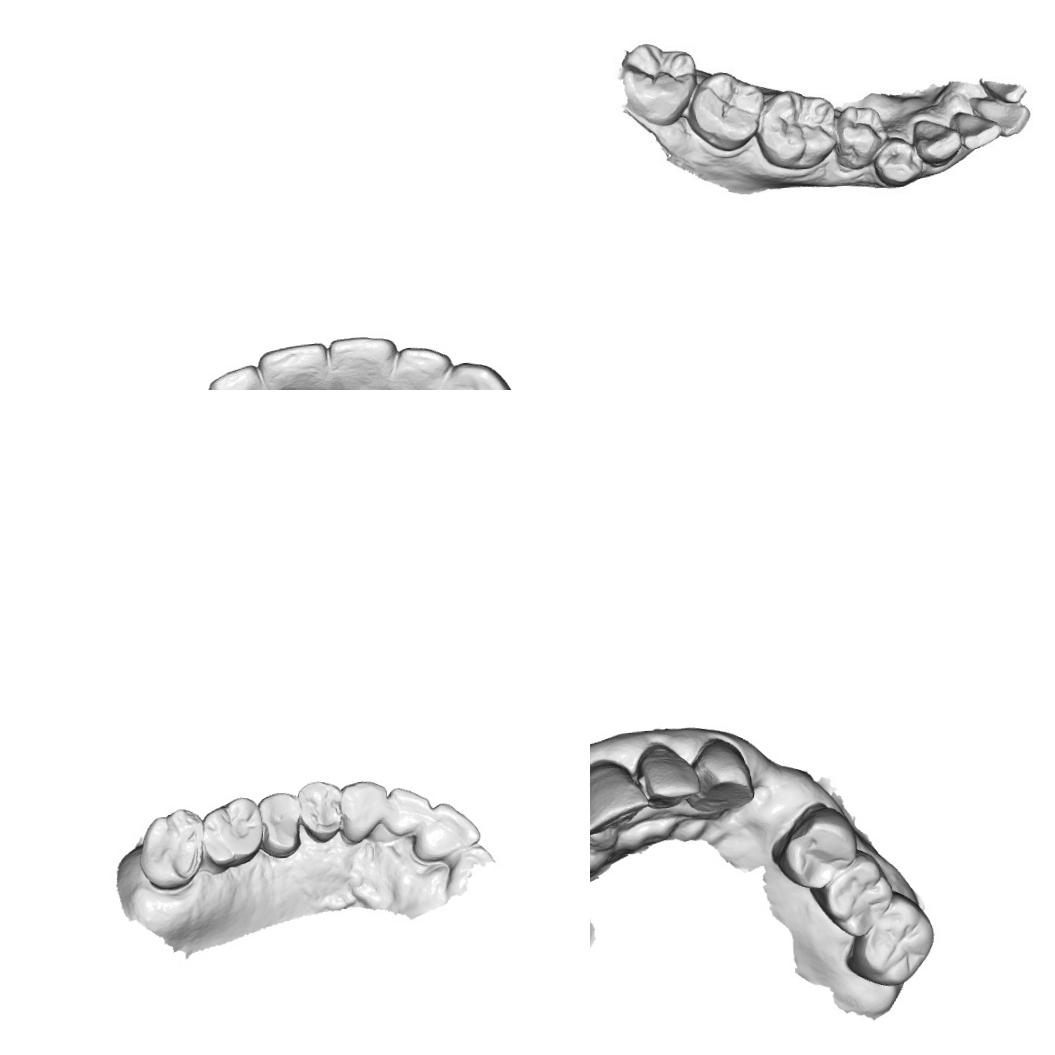canine: (687, 734, 756, 816), (336, 778, 392, 846), (439, 357, 516, 390), (915, 116, 961, 167)
incisor: (408, 798, 482, 864), (590, 757, 649, 838), (325, 330, 400, 389), (636, 736, 697, 808), (252, 337, 330, 390), (390, 337, 455, 390), (970, 89, 1030, 139), (384, 784, 433, 842), (954, 108, 1000, 152), (205, 360, 263, 390)
molar: (776, 801, 864, 894), (620, 40, 698, 130), (754, 88, 837, 170), (685, 69, 766, 152), (135, 805, 207, 892), (866, 900, 936, 978), (822, 856, 891, 932), (198, 794, 266, 868)
premolar: (829, 104, 883, 170), (258, 789, 303, 861), (296, 778, 342, 845), (871, 136, 921, 188)
